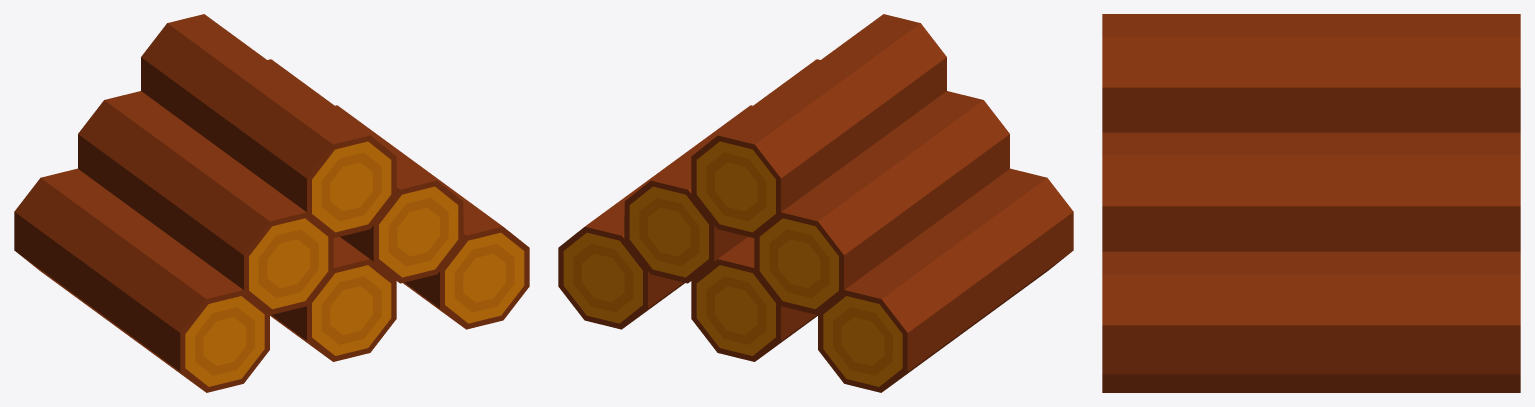
Rendered from Small Log_3.fbx.
3 renders of one model, left to right at view 1: azimuth 30°, elevation 25°; view 2: azimuth 150°, elevation 25°; view 3: azimuth 270°, elevation 25°, orthographic. The views are drawn at different scales.
Visible parts, largest first — view 1: Circle.062; view 2: Circle.062; view 3: Circle.062.
Boxes of the visible parts, x1=… form: Circle.062: x1=14, y1=14, x2=529, y2=392; Circle.062: x1=558, y1=14, x2=1073, y2=392; Circle.062: x1=1102, y1=14, x2=1520, y2=392.
Bounding box in the file's own units: 28.63 × 17.04 × 23.54.
